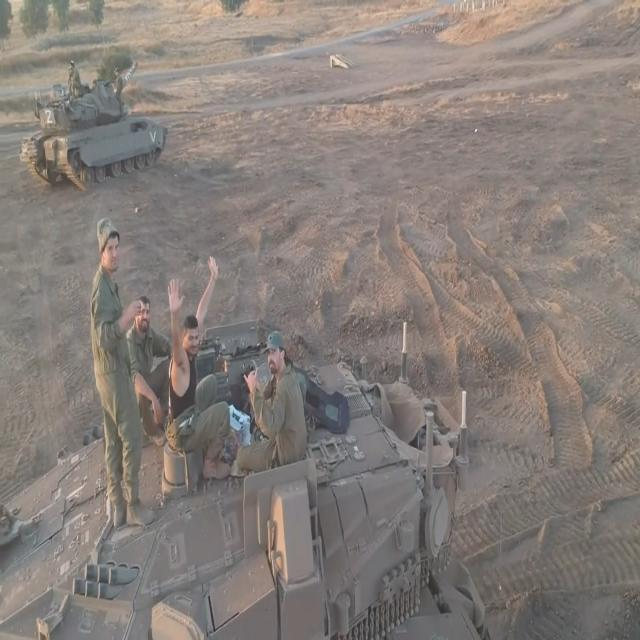tank: (8, 315, 507, 640), (23, 17, 190, 196)
